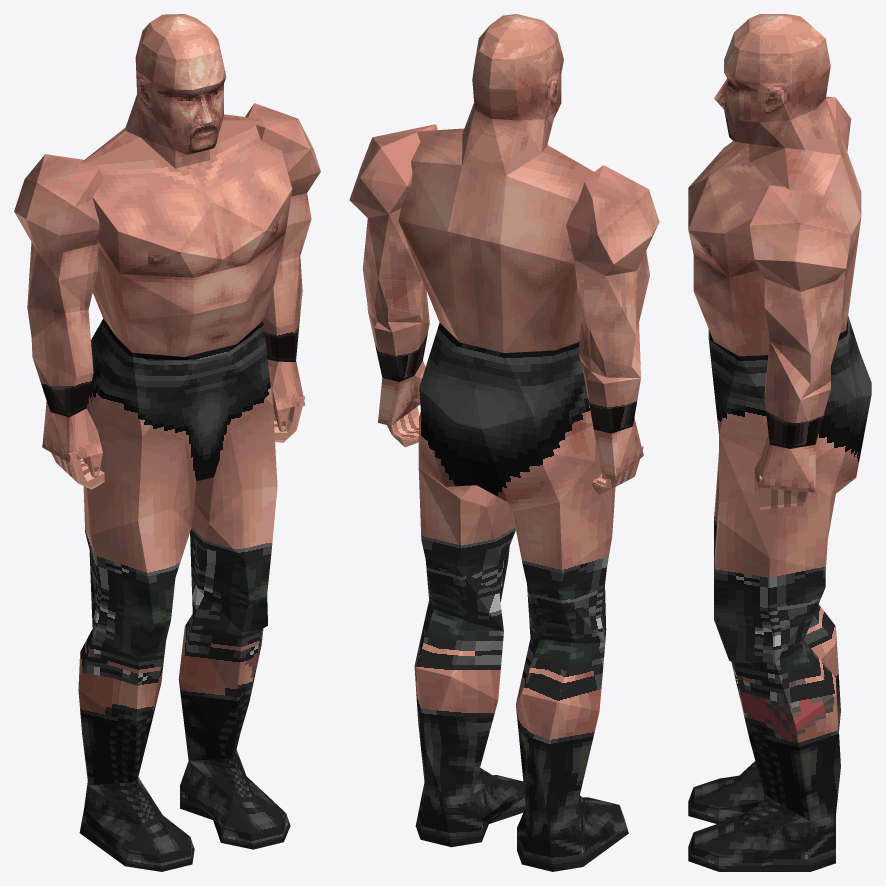
Rendered from steve_austin_1.glb.
3 views of the same model, side by side, from view 1: azimuth 30°, elevation 25°; view 2: azimuth 150°, elevation 25°; view 3: azimuth 270°, elevation 25° (orthographic).
Visible parts, largest first — view 1: 084_580AD6CA_c.bmp, 088_400FB223_c.bmp, 076_400BE8F3_c.bmp, 081_4A3BF682_c.bmp, 097_4B081A4D_c.bmp, 082_7B362E7C_c.bmp, 090_32312AF6_c.bmp, 074_569F19CB_c.bmp, 092_B8096E8_c.bmp, 080_2F0DBF78_c.bmp, 066_2F0FF6A8_c.bmp, 079_7B34DA3C_c.bmp (+9 smaller); view 2: 082_7B362E7C_c.bmp, 074_569F19CB_c.bmp, 090_32312AF6_c.bmp, 086_7AEC061F_c.bmp, 091_618C36D7_c.bmp, 097_4B081A4D_c.bmp, 093_2140CB0_c.bmp, 088_400FB223_c.bmp, 078_4B08739D_c.bmp, 079_7B34DA3C_c.bmp, 076_400BE8F3_c.bmp, 080_2F0DBF78_c.bmp (+6 smaller); view 3: 076_400BE8F3_c.bmp, 074_569F19CB_c.bmp, 078_4B08739D_c.bmp, 079_7B34DA3C_c.bmp, 093_2140CB0_c.bmp, 084_580AD6CA_c.bmp, 066_2F0FF6A8_c.bmp, 081_4A3BF682_c.bmp, 077_44638B63_c.bmp, 092_B8096E8_c.bmp, 091_618C36D7_c.bmp, 080_2F0DBF78_c.bmp (+5 smaller).
Part boxes in pixels (bbox=[...]): 084_580AD6CA_c.bmp: bbox=[72, 120, 292, 277]; 088_400FB223_c.bmp: bbox=[82, 413, 191, 657]; 076_400BE8F3_c.bmp: bbox=[190, 406, 277, 631]; 081_4A3BF682_c.bmp: bbox=[98, 234, 285, 356]; 097_4B081A4D_c.bmp: bbox=[14, 154, 103, 337]; 082_7B362E7C_c.bmp: bbox=[86, 318, 212, 527]; 090_32312AF6_c.bmp: bbox=[78, 552, 165, 785]; 074_569F19CB_c.bmp: bbox=[178, 531, 267, 760]; 092_B8096E8_c.bmp: bbox=[152, 28, 226, 154]; 080_2F0DBF78_c.bmp: bbox=[79, 777, 194, 871]; 066_2F0FF6A8_c.bmp: bbox=[180, 749, 290, 849]; 079_7B34DA3C_c.bmp: bbox=[194, 321, 272, 522]; 082_7B362E7C_c.bmp: bbox=[469, 341, 595, 511]; 074_569F19CB_c.bmp: bbox=[414, 559, 503, 798]; 090_32312AF6_c.bmp: bbox=[516, 584, 606, 824]; 086_7AEC061F_c.bmp: bbox=[398, 221, 581, 352]; 091_618C36D7_c.bmp: bbox=[398, 128, 610, 263]; 097_4B081A4D_c.bmp: bbox=[566, 165, 659, 377]; 093_2140CB0_c.bmp: bbox=[462, 14, 559, 175]; 088_400FB223_c.bmp: bbox=[512, 440, 615, 629]; 078_4B08739D_c.bmp: bbox=[349, 124, 437, 321]; 079_7B34DA3C_c.bmp: bbox=[418, 323, 507, 506]; 076_400BE8F3_c.bmp: bbox=[418, 468, 515, 601]; 080_2F0DBF78_c.bmp: bbox=[517, 795, 628, 871]; 076_400BE8F3_c.bmp: bbox=[714, 435, 835, 660]; 074_569F19CB_c.bmp: bbox=[729, 587, 840, 821]; 078_4B08739D_c.bmp: bbox=[749, 185, 850, 384]; 079_7B34DA3C_c.bmp: bbox=[708, 322, 871, 496]; 093_2140CB0_c.bmp: bbox=[749, 14, 840, 155]; 084_580AD6CA_c.bmp: bbox=[688, 123, 789, 277]; 066_2F0FF6A8_c.bmp: bbox=[688, 795, 835, 871]; 081_4A3BF682_c.bmp: bbox=[693, 254, 769, 356]; 077_44638B63_c.bmp: bbox=[764, 341, 830, 448]; 092_B8096E8_c.bmp: bbox=[714, 19, 759, 143]; 091_618C36D7_c.bmp: bbox=[785, 134, 861, 234]; 080_2F0DBF78_c.bmp: bbox=[688, 761, 764, 823].
Bounding box in the file's own units: 0.066 × 0.177 × 0.036.
Materials: 22 (22 with a texture image).
